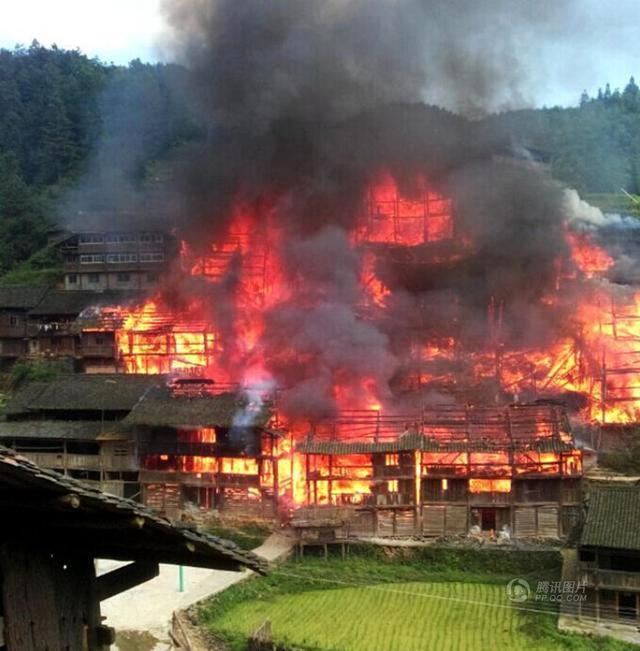fire: (105, 143, 632, 527)
